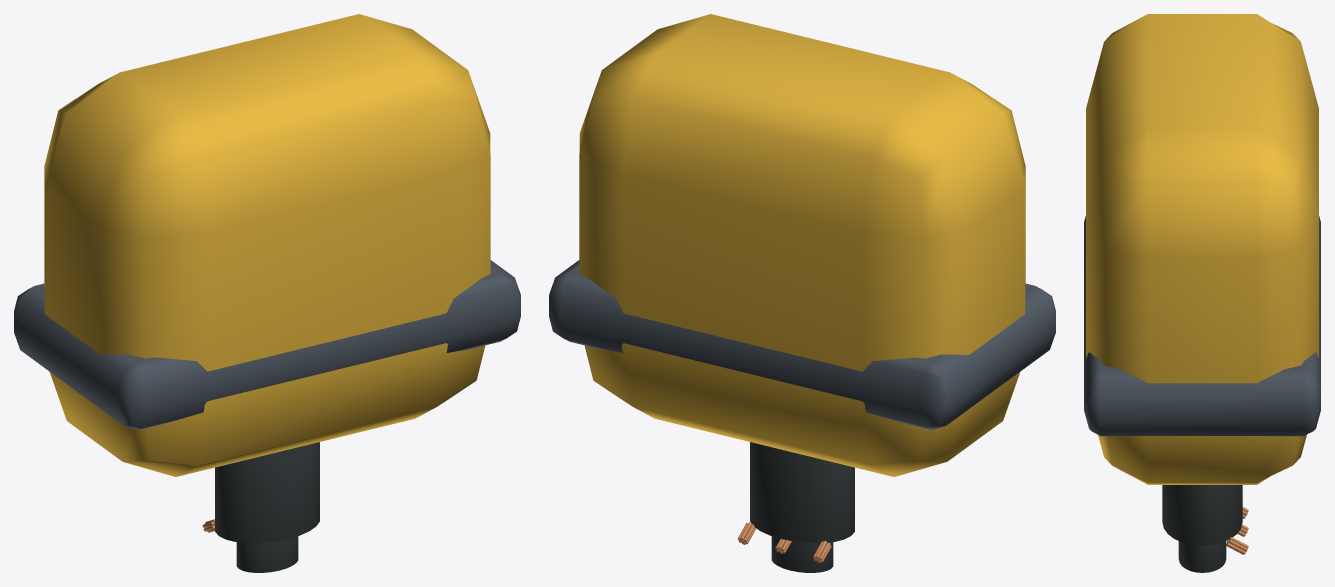
File: selector_float-changeover.glb
The picture shows the model from 3 angles, left to right: view 1: azimuth 30°, elevation 25°; view 2: azimuth 150°, elevation 25°; view 3: azimuth 270°, elevation 25°; orthographic projection. The views are drawn at different scales.
Visible parts, largest first — view 1: node-4, node-5, node-3 · Original material.002; view 2: node-4, node-5, node-3 · Original material.002; view 3: node-4, node-5, node-3 · Original material.002.
Boxes of the visible parts, x1=… form: node-4: x1=44, y1=14, x2=490, y2=476; node-5: x1=14, y1=260, x2=520, y2=429; node-3 · Original material.002: x1=215, y1=442, x2=319, y2=572; node-4: x1=579, y1=14, x2=1025, y2=476; node-5: x1=549, y1=260, x2=1055, y2=429; node-3 · Original material.002: x1=750, y1=442, x2=854, y2=572; node-4: x1=1086, y1=14, x2=1318, y2=484; node-5: x1=1084, y1=216, x2=1320, y2=436; node-3 · Original material.002: x1=1162, y1=485, x2=1242, y2=572.
Bounding box in the file's own units: 1 × 1.18 × 0.52.
